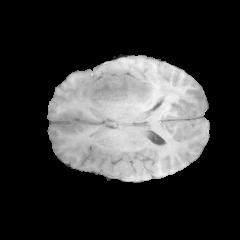glioma: (87, 71, 173, 109)
